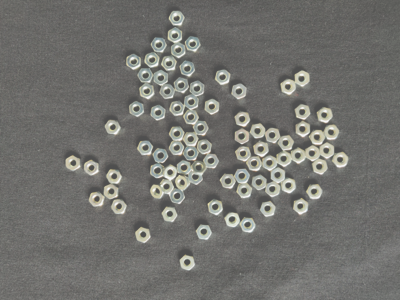nut: (317, 107, 334, 124), (332, 152, 350, 168), (295, 121, 311, 138), (293, 198, 309, 215), (278, 135, 295, 151), (224, 212, 241, 228), (215, 69, 231, 86), (203, 153, 220, 169), (169, 188, 186, 204), (135, 227, 151, 244), (151, 37, 168, 53), (145, 52, 161, 69), (129, 101, 145, 118), (137, 140, 154, 156), (111, 199, 128, 215), (306, 185, 324, 200), (66, 154, 81, 172), (324, 125, 340, 141), (312, 159, 328, 175), (295, 71, 311, 87), (281, 79, 297, 95), (295, 104, 311, 120), (281, 178, 297, 194), (265, 128, 281, 144), (260, 201, 276, 217), (246, 156, 262, 172), (237, 183, 253, 199), (236, 146, 252, 162), (235, 111, 251, 127), (197, 139, 213, 155), (162, 207, 178, 223), (185, 36, 201, 52), (180, 61, 196, 77), (174, 77, 190, 93), (161, 55, 177, 71), (320, 142, 335, 159), (309, 130, 326, 145), (271, 167, 286, 184), (263, 155, 278, 172), (252, 174, 267, 191), (234, 169, 251, 184), (235, 128, 250, 145), (208, 199, 223, 216), (196, 225, 213, 240), (232, 83, 247, 100), (183, 146, 200, 161), (193, 121, 210, 136), (168, 27, 183, 44), (163, 164, 178, 181), (105, 120, 122, 135), (291, 148, 306, 164), (277, 151, 292, 167), (266, 181, 281, 197), (240, 218, 256, 233), (254, 141, 269, 157), (250, 124, 266, 139), (220, 174, 236, 189), (180, 255, 195, 271), (205, 99, 220, 115), (191, 161, 207, 176), (176, 175, 191, 191), (169, 11, 185, 26), (190, 81, 205, 97), (170, 101, 185, 117), (154, 70, 169, 86), (160, 84, 176, 99), (138, 68, 154, 83), (140, 83, 155, 99), (151, 105, 166, 121), (153, 148, 169, 163), (104, 184, 119, 200), (89, 192, 105, 207), (84, 160, 99, 176), (306, 145, 320, 162), (172, 42, 186, 59), (183, 110, 200, 124), (106, 170, 123, 184), (160, 180, 175, 195), (151, 184, 166, 199), (183, 132, 199, 146), (177, 160, 191, 176), (185, 94, 199, 110), (169, 142, 185, 156), (127, 54, 141, 70), (151, 163, 165, 179), (188, 171, 203, 185), (170, 127, 185, 141)
